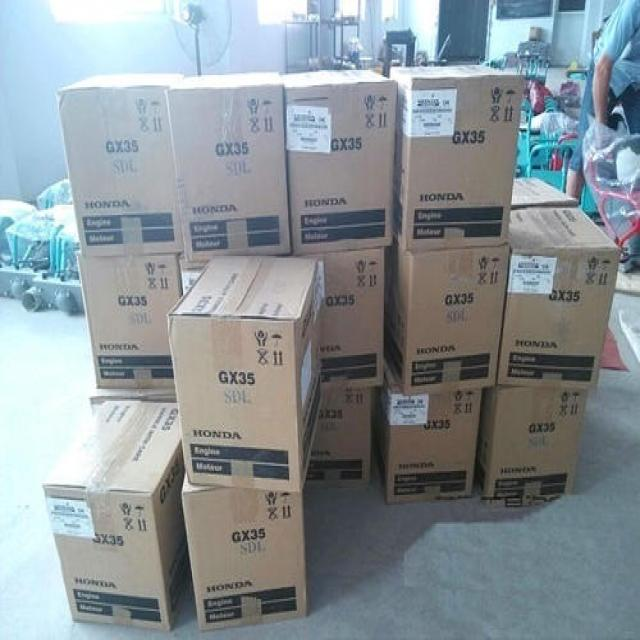box: (168, 253, 324, 495), (41, 399, 192, 630), (390, 63, 524, 251), (56, 73, 187, 258), (168, 70, 292, 261), (495, 207, 621, 391), (279, 68, 398, 256), (182, 471, 308, 631), (385, 242, 509, 394), (371, 355, 483, 502), (76, 253, 183, 393), (474, 386, 589, 507), (293, 247, 387, 393), (305, 387, 372, 485), (91, 387, 178, 413), (512, 176, 579, 208), (178, 253, 210, 299)
